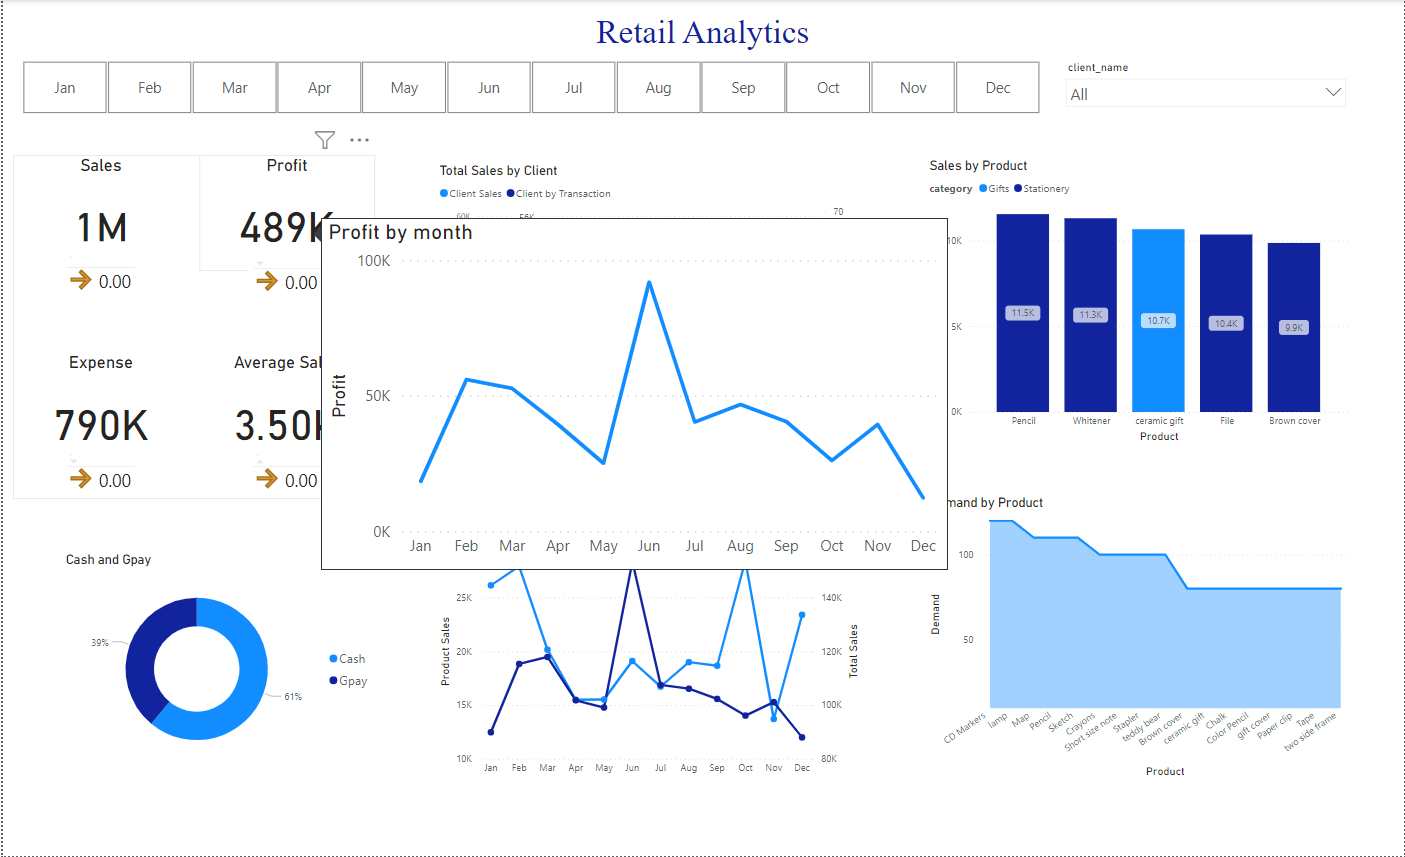

Layout of this report page (visuals, bound fields, positions):
{"tool":"powerbi","page":{"name":"Page 1","canvas":[1800,1100],"ordinal":0},"visuals":[{"type":"textbox","box":[714.1,11.7,368.7,80.1],"z":0},{"type":"slicer","fields":{"Values":["dim_date.month"]},"box":[175,91.6,1443.9,96.5],"z":1000},{"type":"card","title":"Sales","fields":{"Values":["key_measures.Total Sales"]},"box":[62.1,328.7,225.7,150.4],"z":2000},{"type":"card","title":"Credit Balance","fields":{"Values":["key_measures.Credit Balance"]},"box":[287.8,533.1,225.7,148.8],"z":3000},{"type":"card","title":"Client Sales","fields":{"Values":["key_measures.Client Sales"]},"box":[62.1,533.1,225.7,148.8],"z":4000},{"type":"card","title":"Expense","fields":{"Values":["key_measures.Total Expense"]},"box":[287.8,327,225.7,150.4],"z":5000},{"type":"card","title":"Profit","fields":{"Values":["key_measures.Profit"]},"box":[513.4,328.7,225.7,148.8],"z":6000},{"type":"card","title":"Average Sales","fields":{"Values":["key_measures.Average Daily Sales"]},"box":[513.4,533,225.7,148.8],"z":7000},{"type":"tableEx","title":".","fields":{"Values":["key_measures.Profit MoM Change"]},"box":[575.6,441.5,99.7,75.2],"z":8000},{"type":"tableEx","title":".","fields":{"Values":["key_measures.Profit MoM Change"]},"box":[349.9,644.3,99.7,75.2],"z":9000},{"type":"tableEx","title":".","fields":{"Values":["key_measures.Profit MoM Change"]},"box":[124.3,439.9,99.7,75.2],"z":10000},{"type":"tableEx","title":".","fields":{"Values":["key_measures.Expense MoM Change"]},"box":[349.9,441.5,99.7,75.2],"z":11000},{"type":"tableEx","title":".","fields":{"Values":["key_measures.Profit MoM Change"]},"box":[575.6,644.3,99.7,75.2],"z":12000},{"type":"tableEx","title":".","fields":{"Values":["key_measures.Profit MoM Change"]},"box":[124.3,644.3,99.7,75.2],"z":13000},{"type":"tableEx","fields":{"Values":["dim_supplier.supplier_name","key_measures.Credit by Supplier","key_measures.Supplier by Transaction"]},"box":[158.6,747.3,516.7,219.1],"z":14000},{"type":"donutChart","fields":{"Y":["key_measures.Cash","key_measures.Gpay"]},"box":[827.4,281.3,407.2,284.5],"z":15000},{"type":"clusteredBarChart","fields":{"Y":["key_measures.Product Demand"],"Category":["dim_product.product_name"],"Series":["dim_product.category"]},"box":[1349,281.3,371.2,363],"z":15002},{"type":"clusteredColumnChart","fields":{"Y":["key_measures.Product Sales"],"Category":["dim_product.product_name"]},"box":[816,668.8,538,343.4],"z":15003},{"type":"lineStackedColumnComboChart","fields":{"Y":["key_measures.Client Sales"],"Category":["dim_client.client_name"],"Y2":["key_measures.Client Sales"]},"box":[1380.1,668.8,366.3,343.4],"z":15004}]}

Visuals, with their boxes in screenshot pixels (x1, y1, x2, y2), scaled from the page's 1800x1100 canvas onto the 1405x857 screenshot:
textbox: <bbox>557, 9, 845, 72</bbox>
slicer - dim_date.month: <bbox>137, 71, 1264, 147</bbox>
"Sales" card: <bbox>48, 256, 225, 373</bbox>
"Credit Balance" card: <bbox>225, 415, 401, 531</bbox>
"Client Sales" card: <bbox>48, 415, 225, 531</bbox>
"Expense" card: <bbox>225, 255, 401, 372</bbox>
"Profit" card: <bbox>401, 256, 577, 372</bbox>
"Average Sales" card: <bbox>401, 415, 577, 531</bbox>
"." tableEx: <bbox>449, 344, 527, 403</bbox>
"." tableEx: <bbox>273, 502, 351, 561</bbox>
"." tableEx: <bbox>97, 343, 175, 401</bbox>
"." tableEx: <bbox>273, 344, 351, 403</bbox>
"." tableEx: <bbox>449, 502, 527, 561</bbox>
"." tableEx: <bbox>97, 502, 175, 561</bbox>
tableEx - dim_supplier.supplier_name x key_measures.Credit by Supplier: <bbox>124, 582, 527, 753</bbox>
donutChart - key_measures.Cash x key_measures.Gpay: <bbox>646, 219, 964, 441</bbox>
clusteredBarChart - key_measures.Product Demand x dim_product.product_name: <bbox>1053, 219, 1343, 502</bbox>
clusteredColumnChart - key_measures.Product Sales x dim_product.product_name: <bbox>637, 521, 1057, 789</bbox>
lineStackedColumnComboChart - key_measures.Client Sales x dim_client.client_name: <bbox>1077, 521, 1363, 789</bbox>
